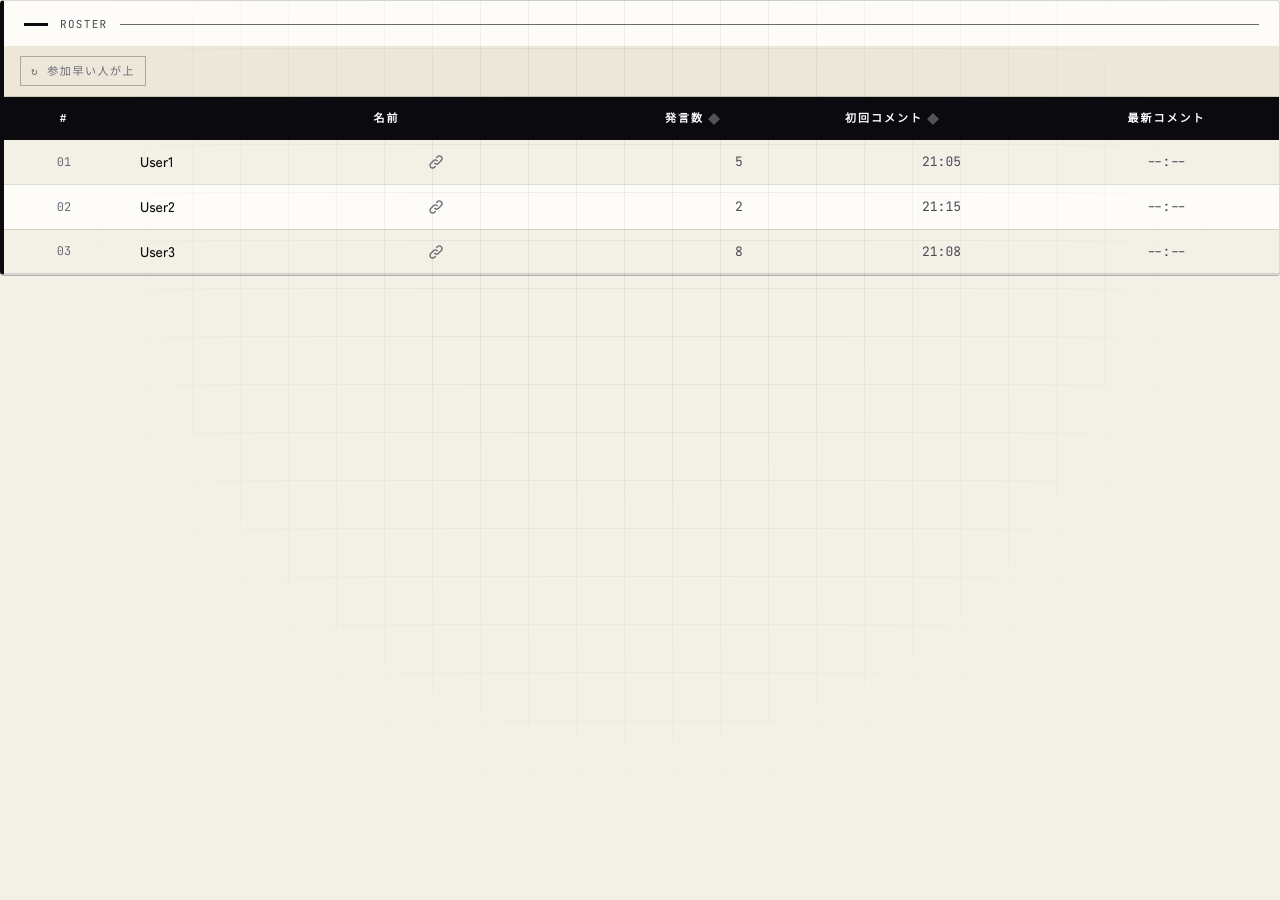
UserTable コンポーネント › ソート機能 › 発言数ソートボタンクリックで降順にソートされる
Click the button "発言数" at point(692, 119), box [665,109,720,128]
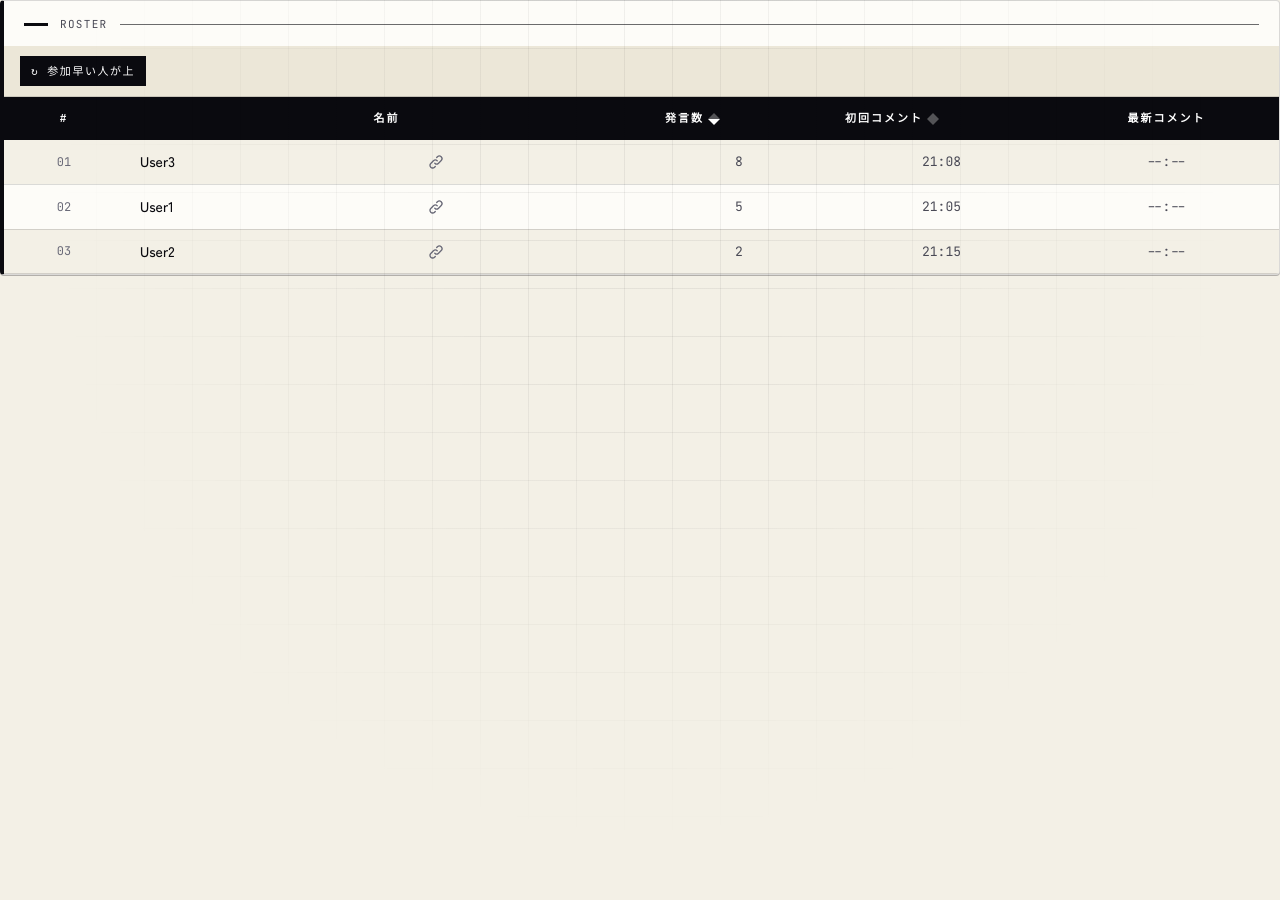
Result: the row "01 User3 8 21:08 --:--" is shown at [4,140,1279,184]
Result: the row "02 User1 5 21:05 --:--" is shown at [4,184,1279,229]
Result: the row "03 User2 2 21:15 --:--" is shown at [4,229,1279,274]
